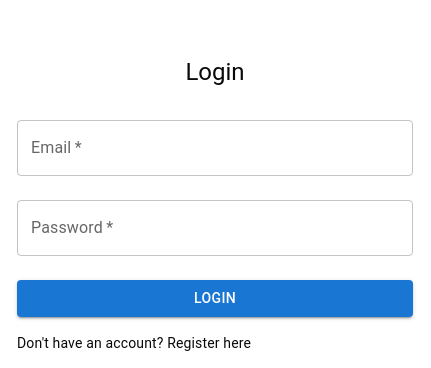
Login page › shows server error message when provided
The image size is (431, 368).
Type "a@b.com" into the field labelled "Email *".
click(215, 148); type("a@b.com")  # box [17, 120, 413, 176]
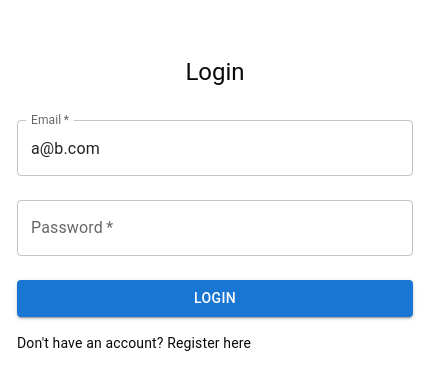
Type "bad" into the password field labelled "Password *".
click(215, 228); type("bad")  # box [17, 200, 413, 256]
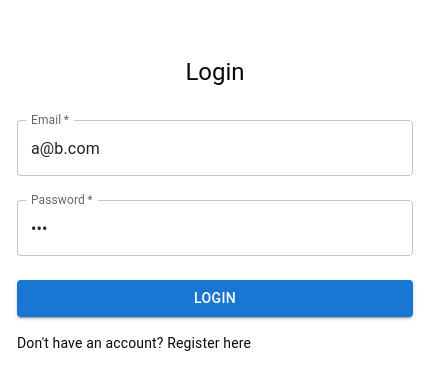
Click the button "Login".
click(215, 299)  # box [17, 280, 413, 317]
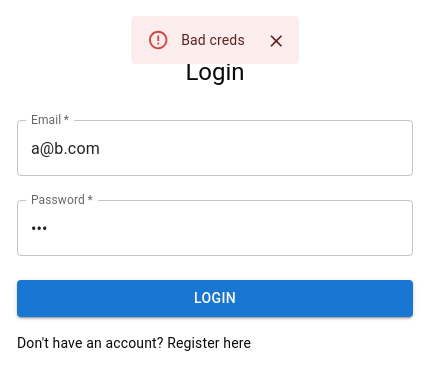
Check: the message "Bad creds" is shown, box [131, 16, 299, 64]
